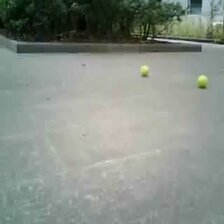tennis: (196, 74, 210, 89), (139, 64, 149, 76)
